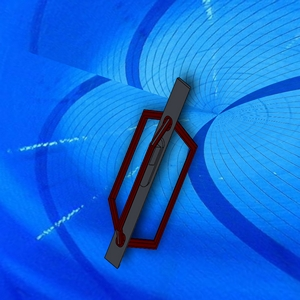submarine: (97, 72, 204, 274)
